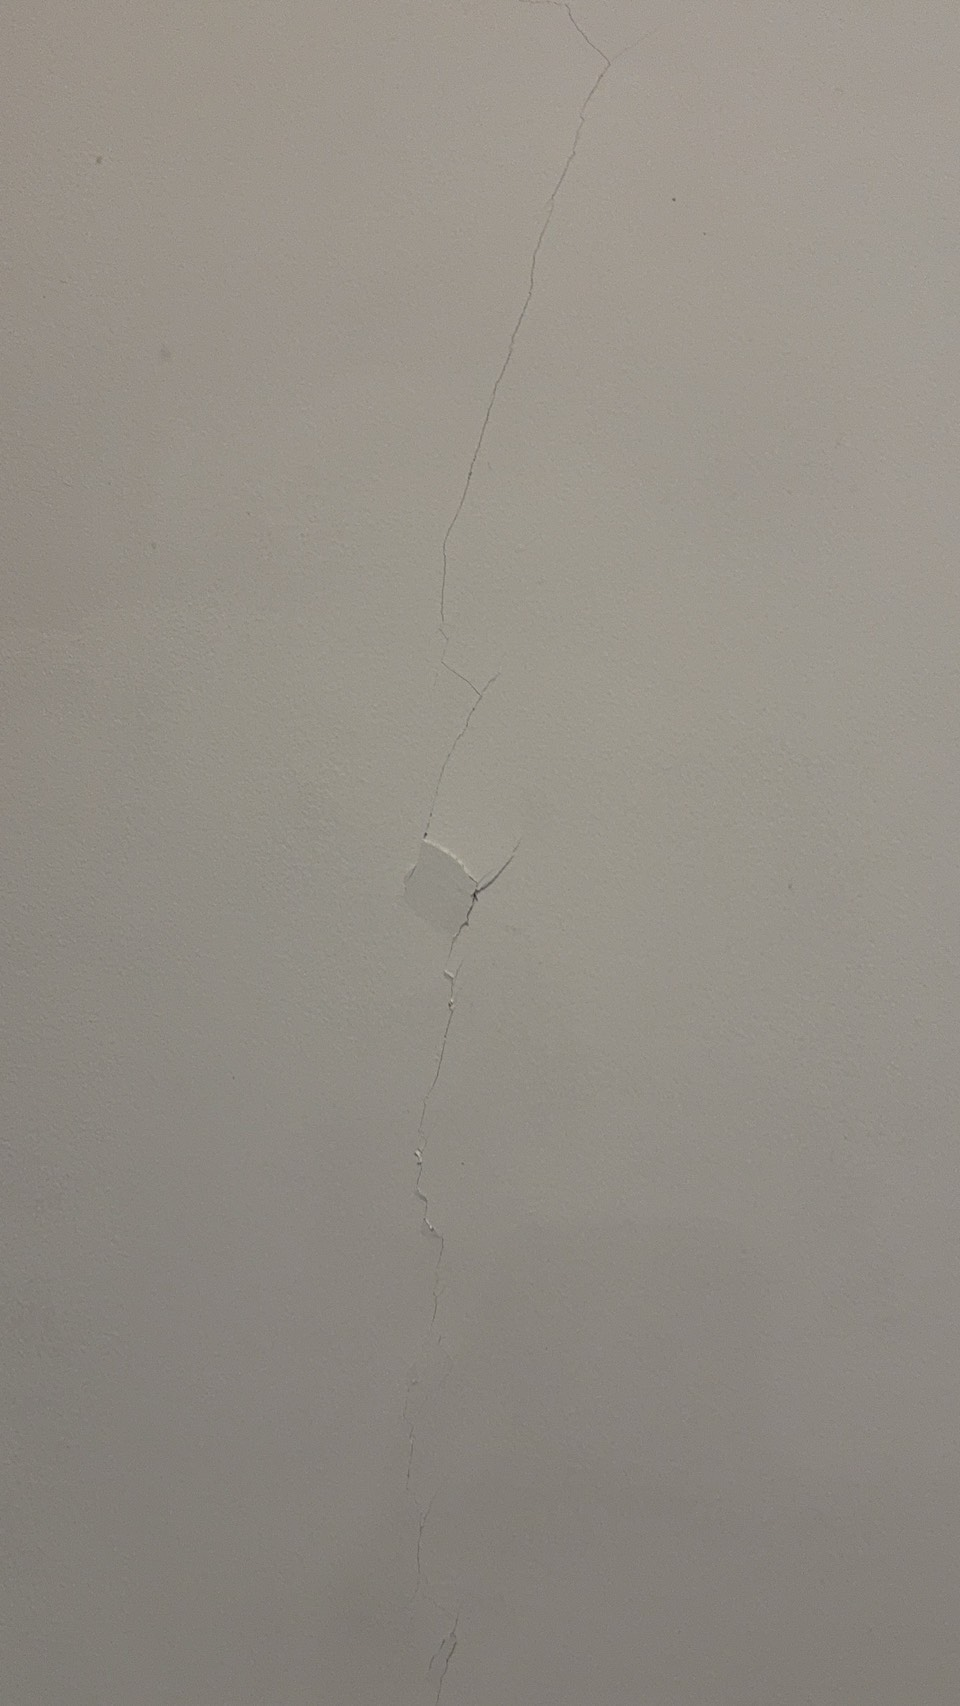Medium: (347, 165, 634, 1301)
